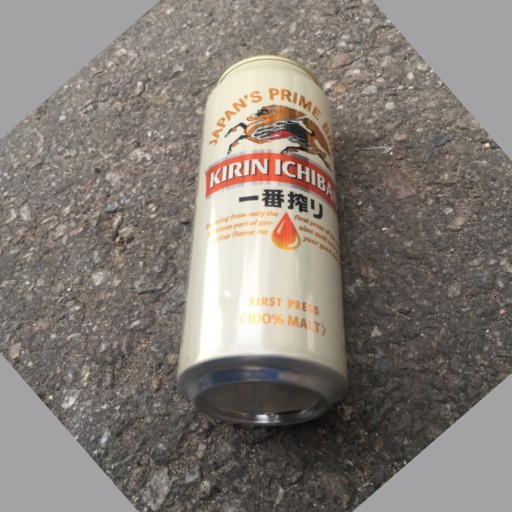Metal_0: (175, 53, 350, 428)
